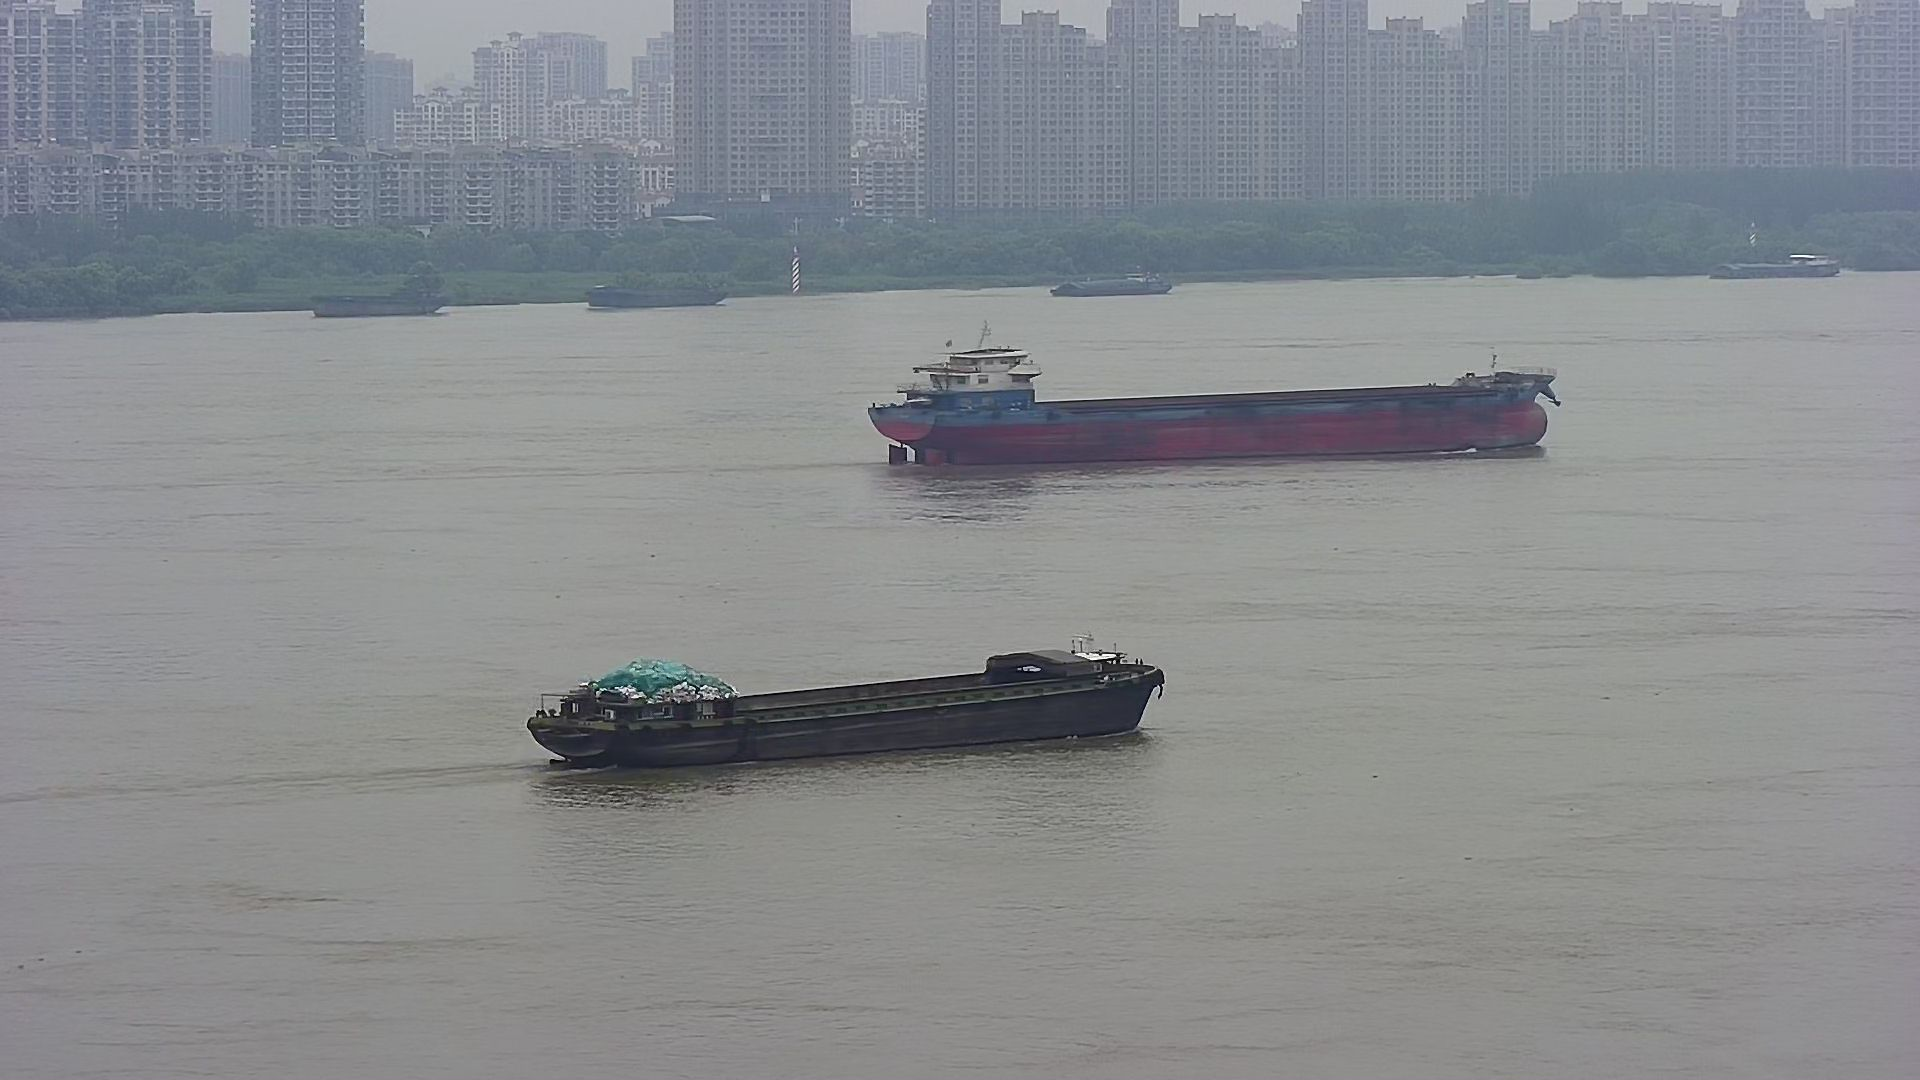ship: (860, 313, 1577, 487), (508, 624, 1185, 798), (298, 280, 460, 331), (572, 272, 741, 320), (1698, 241, 1851, 290), (1040, 257, 1191, 306)
